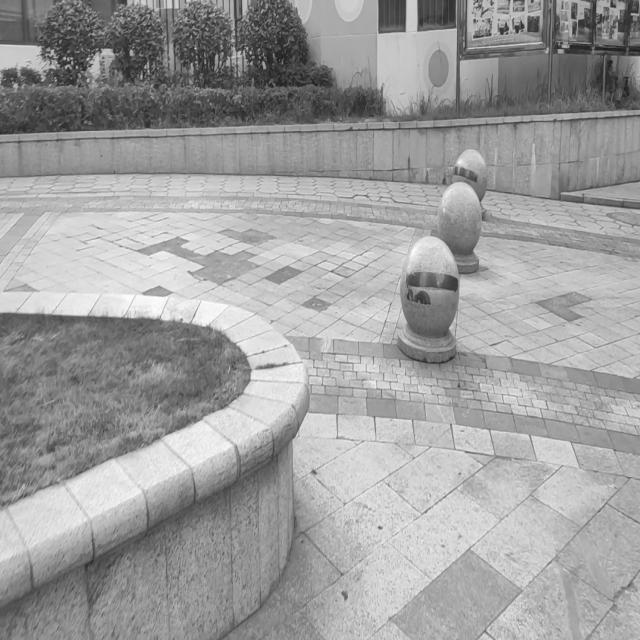spherical_roadblock: (393, 234, 462, 365), (432, 181, 481, 273), (449, 148, 487, 222)
